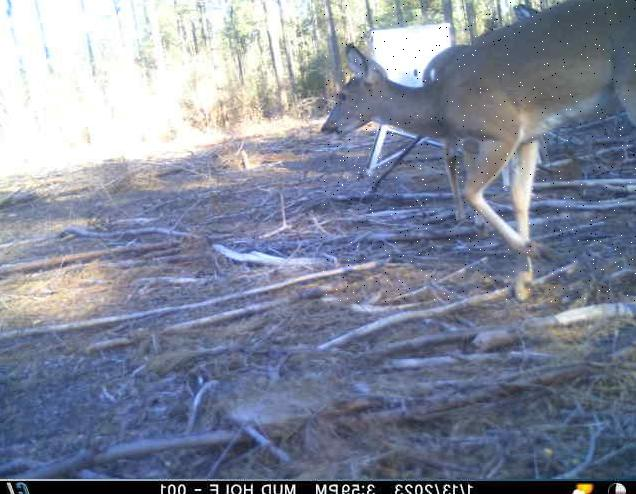Deer: (319, 0, 636, 302)
